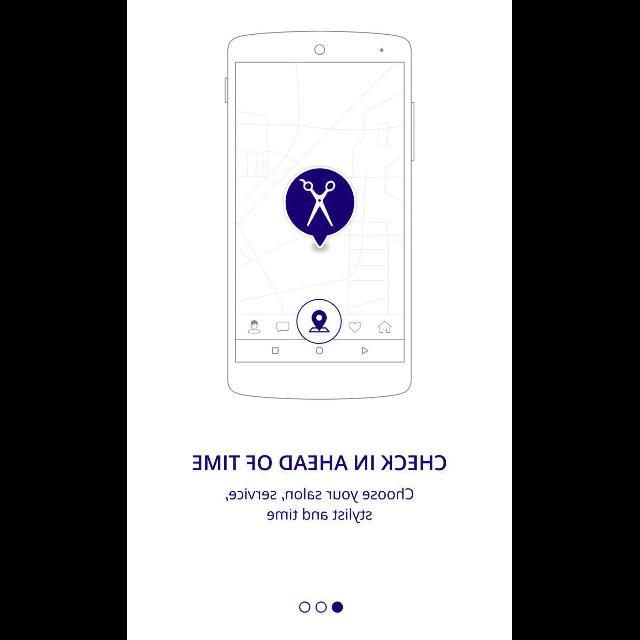image: (225, 31, 415, 400)
pageindicator: (300, 601, 344, 613)
text: (226, 487, 414, 523), (193, 455, 447, 471)
